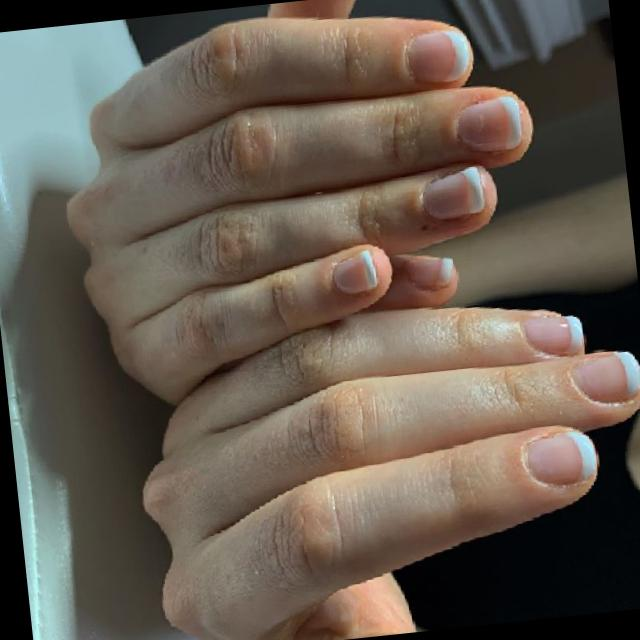Nail: (525, 430, 596, 485), (456, 95, 521, 152), (572, 351, 640, 403), (406, 29, 470, 83), (422, 166, 484, 219), (522, 315, 583, 354), (332, 250, 378, 293), (405, 255, 453, 289)
